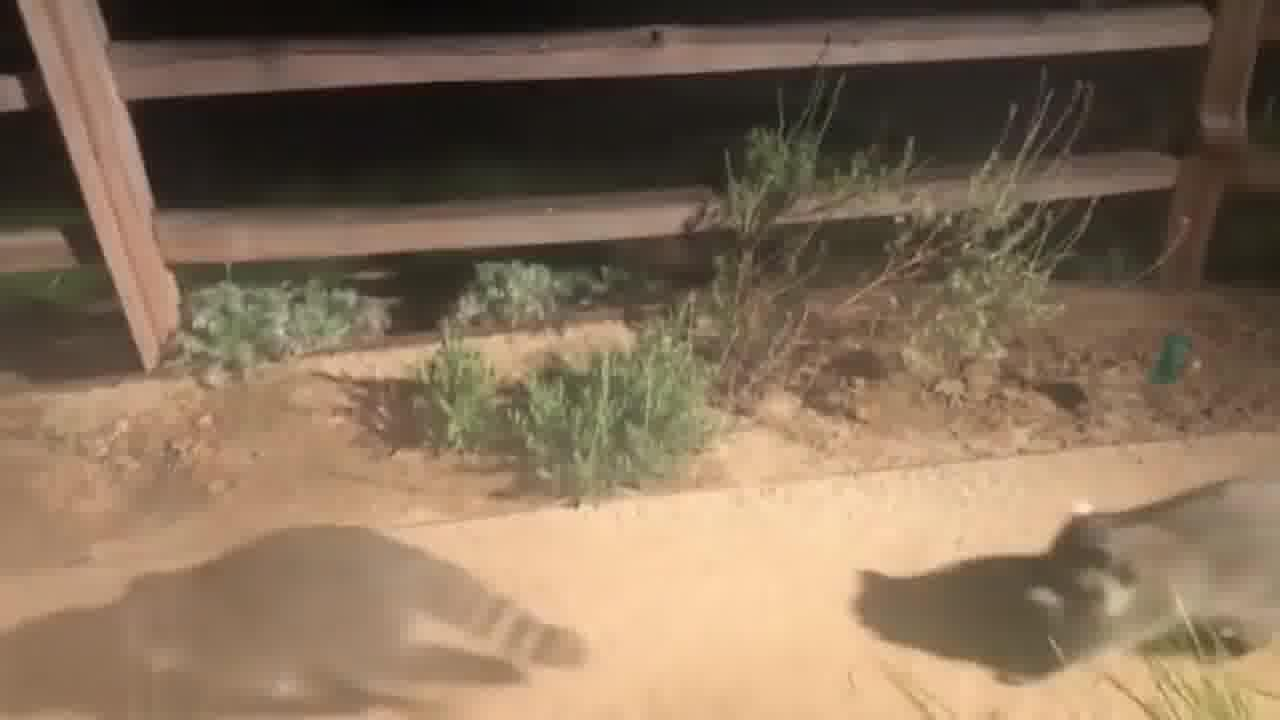raccoon: (122, 527, 587, 720), (1019, 472, 1280, 671)
